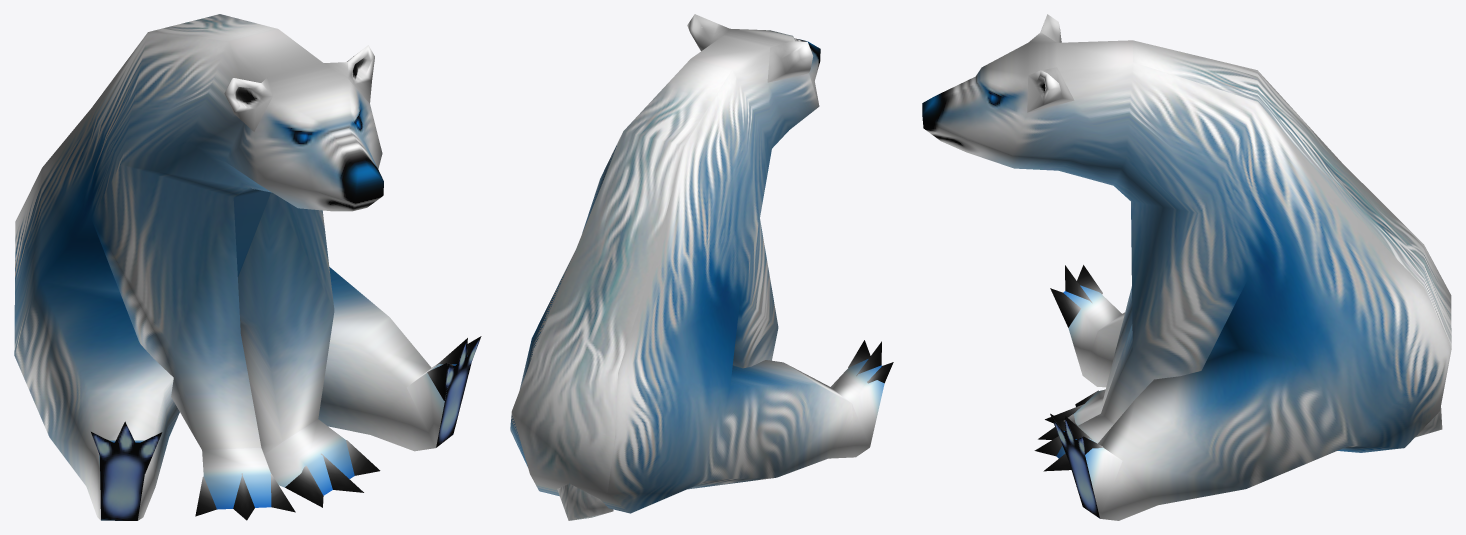
Rendered from Personage_Bear3.FBX.
The picture shows the model from 3 angles, left to right: view 1: azimuth 30°, elevation 25°; view 2: azimuth 150°, elevation 25°; view 3: azimuth 270°, elevation 25°; orthographic projection. The views are drawn at different scales.
Visible parts, largest first — view 1: Bear; view 2: Bear; view 3: Bear.
Boxes of the visible parts, left/top/right/bottom form: Bear: left=14, top=14, right=481, bottom=520; Bear: left=510, top=14, right=893, bottom=520; Bear: left=922, top=14, right=1451, bottom=520.
Bounding box in the file's own units: 56.55 × 61.5 × 73.57.
